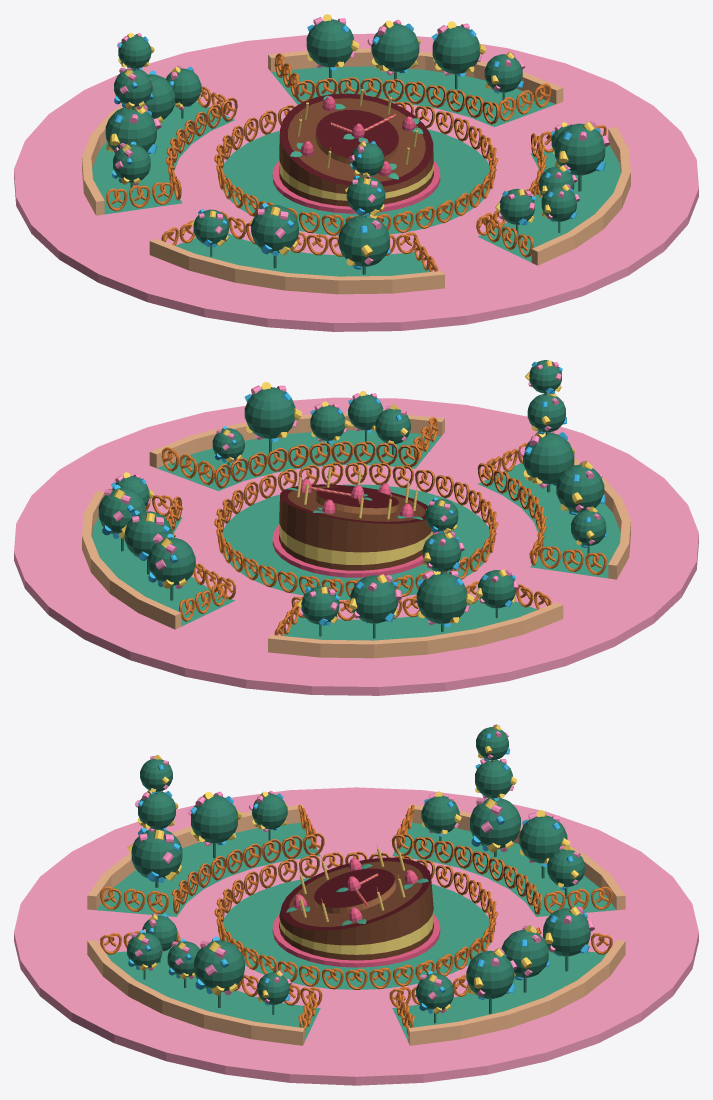
File: D2_ROUNDABOUT_3.fbx
3 renders of one model, top to bottom at view 1: azimuth 30°, elevation 25°; view 2: azimuth 150°, elevation 25°; view 3: azimuth 270°, elevation 25°, orthographic.
Parts seen in each view (by area): view 1: Cylinder.074, Cylinder.075, NurbsPath.001, NurbsPath, Cube.042, Cube.046, Cube.039, Cube.038, Cube.037, Cube.056, Cube.049, NurbsPath.002 (+15 smaller); view 2: Cylinder.074, Cylinder.075, NurbsPath, NurbsPath.001, Cube.042, Cube.049, Cube.046, Cube.052, Cube.037, Cube.056, Cube.039, Cube.038 (+17 smaller); view 3: Cylinder.074, Cylinder.075, NurbsPath, NurbsPath.001, Cube.042, Cube.049, Cube.046, Cube.056, Cube.039, Cube.037, Cube.052, Cube.038 (+17 smaller).
Boxes of the visible parts, x1,y1,x2,y2 form: Cylinder.074: [14, 33, 698, 331]; Cylinder.075: [272, 93, 440, 213]; NurbsPath.001: [166, 77, 546, 256]; NurbsPath: [214, 98, 498, 235]; Cube.042: [554, 121, 609, 191]; Cube.046: [338, 214, 390, 274]; Cube.039: [431, 21, 486, 89]; Cube.038: [367, 19, 420, 86]; Cube.037: [306, 14, 359, 82]; Cube.056: [250, 203, 298, 268]; Cube.049: [105, 105, 161, 153]; NurbsPath.002: [274, 53, 551, 121]; Cylinder.074: [14, 397, 698, 695]; Cylinder.075: [272, 484, 438, 577]; NurbsPath: [214, 461, 498, 597]; NurbsPath.001: [166, 441, 546, 620]; Cube.042: [244, 382, 302, 452]; Cube.049: [416, 570, 474, 631]; Cube.046: [518, 431, 574, 492]; Cube.052: [348, 574, 401, 638]; Cube.037: [147, 533, 195, 600]; Cube.056: [556, 460, 605, 515]; Cube.039: [98, 484, 146, 551]; Cube.038: [121, 510, 172, 574]; Cylinder.074: [14, 787, 698, 1085]; Cylinder.075: [272, 857, 440, 967]; NurbsPath: [214, 851, 497, 989]; NurbsPath.001: [171, 833, 542, 1007]; Cube.042: [194, 936, 244, 1007]; Cube.049: [470, 797, 520, 856]; Cube.046: [127, 827, 182, 887]; Cube.056: [188, 791, 241, 858]; Cube.039: [466, 948, 517, 1013]; Cube.037: [543, 906, 594, 971]; Cube.052: [519, 810, 570, 878]; Cube.038: [501, 925, 549, 992].
Bounding box in the file's own units: 2476 × 560 × 2476.
7 materials, 4 textured.
